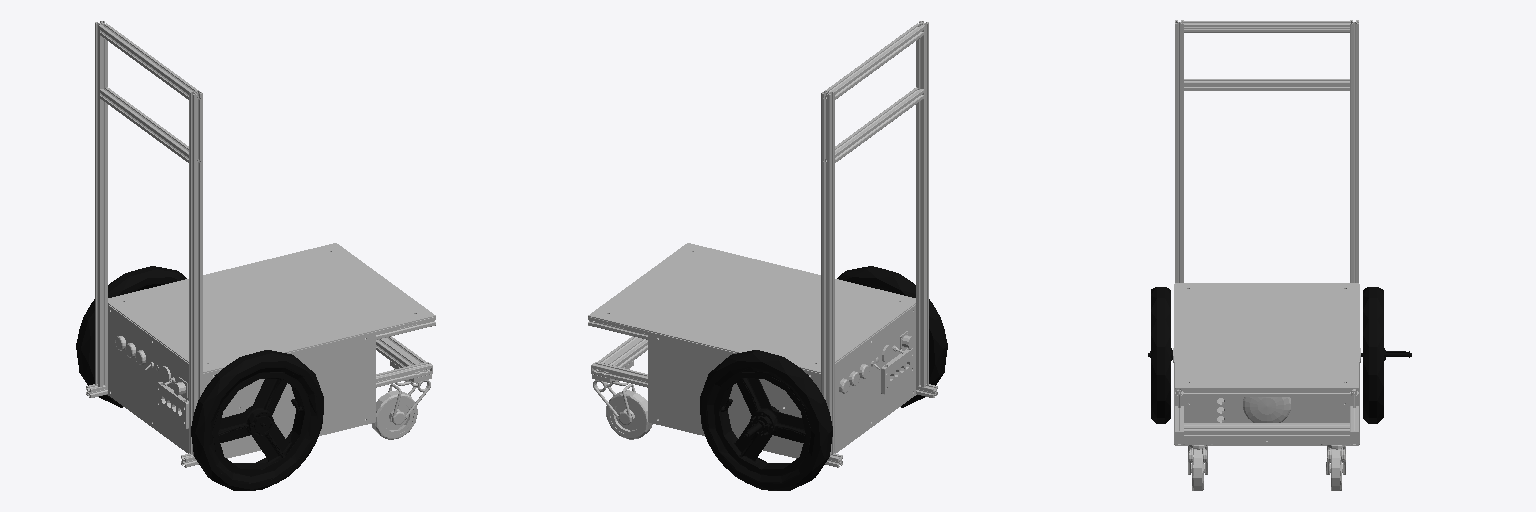
The robot description file, URDF, robot "icart_box":
<?xml version="1.0" encoding="utf-8"?>
<!-- =================================================================================== -->
<!-- |    This document was autogenerated by xacro from icart_box.xacro                | -->
<!-- |    EDITING THIS FILE BY HAND IS NOT RECOMMENDED                                 | -->
<!-- =================================================================================== -->
<!-- Revolute-Revolute Manipulator -->
<robot name="icart_box">
  <material name="black">
    <color rgba="0.0 0.0 0.0 1.0"/>
  </material>
  <material name="blue">
    <color rgba="0.0 0.0 0.8 1.0"/>
  </material>
  <material name="green">
    <color rgba="0.0 0.8 0.0 1.0"/>
  </material>
  <material name="grey">
    <color rgba="0.2 0.2 0.2 1.0"/>
  </material>
  <material name="orange">
    <color rgba="1.0 0.423529411765 0.0392156862745 1.0"/>
  </material>
  <material name="brown">
    <color rgba="0.870588235294 0.811764705882 0.764705882353 1.0"/>
  </material>
  <material name="red">
    <color rgba="0.8 0.0 0.0 1.0"/>
  </material>
  <material name="white">
    <color rgba="1.0 1.0 1.0 1.0"/>
  </material>
  <!-- ros_control plugin -->
  <gazebo>
    <plugin filename="libgazebo_ros_control.so" name="gazebo_ros_control">
      <robotSimType>icart_mini_gazebo/ICartMiniHWSim</robotSimType>
    </plugin>
  </gazebo>
  <!-- Left Wheel -->
  <gazebo reference="left_wheel">
    <mu1>1.0</mu1>
    <mu2>1.0</mu2>
    <kp>1000000.0</kp>
    <kd>100.0</kd>
    <minDepth>0.001</minDepth>
    <maxVel>1.0</maxVel>
    <material>Gazebo/Orange</material>
  </gazebo>
  <!-- Base Link -->
  <gazebo reference="base_link">
    <material>Gazebo/White</material>
  </gazebo>
  <!-- Right Wheel -->
  <gazebo reference="right_wheel">
    <mu1>1.0</mu1>
    <mu2>1.0</mu2>
    <kp>1000000.0</kp>
    <kd>100.0</kd>
    <minDepth>0.001</minDepth>
    <maxVel>1.0</maxVel>
    <material>Gazebo/Orange</material>
  </gazebo>
  <!-- hokuyo -->
  <gazebo reference="hokuyo_link">
    <sensor name="head_hokuyo_sensor" type="ray">
      <pose>0 0 0 0 0 0</pose>
      <visualize>false</visualize>
      <update_rate>40</update_rate>
      <ray>
        <scan>
          <horizontal>
            <samples>720</samples>
            <resolution>1</resolution>
            <min_angle>-1.570796</min_angle>
            <max_angle>1.570796</max_angle>
          </horizontal>
        </scan>
        <range>
          <min>0.10</min>
          <max>30.0</max>
          <resolution>0.01</resolution>
        </range>
        <noise>
          <type>gaussian</type>
          <!-- Noise parameters based on published spec for Hokuyo laser
               achieving "+-30mm" accuracy at range < 10m.  A mean of 0.0m and
               stddev of 0.01m will put 99.7% of samples within 0.03m of the true
               reading. -->
          <mean>0.0</mean>
          <stddev>0.01</stddev>
        </noise>
      </ray>
      <plugin filename="libgazebo_ros_laser.so" name="gazebo_ros_head_hokuyo_controller">
        <topicName>/scan</topicName>
        <frameName>hokuyo_link</frameName>
      </plugin>
    </sensor>
  </gazebo>
  <!-- Base Link -->
  <link name="base_link">
    <visual>
      <origin rpy="0 0 0" xyz="-0.03 0 0.0705"/>
      <geometry>
        <!-- <box size=".40 .42 .134"/> -->
        <mesh filename="package://orne_description/meshes/orne_box_stl/base.stl" scale="1 1 1"/>
      </geometry>
      <material name="silver">
        <color rgba="0.752941176471 0.752941176471 0.752941176471 1.0"/>
      </material>
    </visual>
    <collision>
      <origin rpy="0 0 0" xyz="-0.03 0 0.0705"/>
      <geometry>
        <!-- <box size=".40 .42 .134"/> -->
        <mesh filename="package://orne_description/meshes/orne_box_stl/base.stl" scale="1 1 1"/>
      </geometry>
    </collision>
    <inertial>
      <mass value="20"/>
      <origin rpy="0 0 0" xyz="0 0 0"/>
      <inertia ixx="1" ixy="0" ixz="0" iyy="1" iyz="0" izz="1"/>
    </inertial>
  </link>
  <!-- left wheel -->
  <link name="visual_left_wheel">
    <visual>
      <origin rpy="0 1.5707 1.5707" xyz="0 0 0"/>
      <geometry>
        <!-- <cylinder  length="0.03" radius="0.151"/> -->
        <mesh filename="package://orne_description/meshes/wheels/tire.stl" scale="1 1 1"/>
      </geometry>
      <material name="dark">
        <color rgba="0.1 0.1 0.1 1.5"/>
      </material>
    </visual>
  </link>
  <joint name="visual_left_wheel_hinge" type="fixed">
    <!-- <origin xyz="0.045 0.223 0.1518" rpy="0 0 0"/> -->
    <origin rpy="0 0 0" xyz="0 0.23 0.1518"/>
    <child link="visual_left_wheel">visual_left_wheel</child>
    <parent link="base_link">base_link</parent>
    <axis xyz="0 1 0"/>
  </joint>
  <link name="left_wheel">
    <collision name="collision">
      <origin rpy="0 1.5707 1.5707" xyz="0 0 0"/>
      <geometry>
        <!-- <cylinder length="0.03" radius="0.151" /> -->
        <mesh filename="package://orne_description/meshes/wheels/tire.stl" scale="1 1 1"/>
      </geometry>
    </collision>
    <inertial>
      <mass value="1"/>
      <origin xyz="0 0 0"/>
      <inertia ixx="0.1" ixy="0" ixz="0" iyy="0.1" iyz="0" izz="0.1"/>
    </inertial>
  </link>
  <joint name="left_wheel_hinge" type="revolute">
    <!-- <origin xyz="0.045 0.223 0.1518" rpy="0 0 0"/> -->
    <origin rpy="0 0 0" xyz="0 0.23 0.1518"/>
    <child link="left_wheel">left_wheel</child>
    <parent link="base_link">base_link</parent>
    <axis xyz="0 1 0"/>
    <limit effort="100" lower="-5000" upper="5000" velocity="100.0"/>
  </joint>
  <!-- right wheel -->
  <link name="visual_right_wheel">
    <visual>
      <origin rpy="0 1.5707 1.5707" xyz="0 0 0"/>
      <geometry>
        <!-- <cylinder  length="0.03" radius="0.151"/> -->
        <mesh filename="package://orne_description/meshes/wheels/tire.stl" scale="1 1 1"/>
      </geometry>
      <material name="dark"/>
    </visual>
  </link>
  <joint name="visual_right_wheel_hinge" type="fixed">
    <!-- <origin xyz="-0.045 -0.223 0.1518" rpy="0 0 0"/> -->
    <origin rpy="0 0 0" xyz="0 -0.23 0.1518"/>
    <child link="visual_right_wheel">visual_right_wheel</child>
    <parent link="base_link">base_link</parent>
    <axis xyz="0 1 0"/>
  </joint>
  <link name="right_wheel">
    <collision name="collision">
      <origin rpy="0 1.5707 1.5707" xyz="0 0 0"/>
      <geometry>
        <!-- <cylinder length="0.03" radius="0.151" /> -->
        <mesh filename="package://orne_description/meshes/wheels/tire.stl" scale="1 1 1"/>
      </geometry>
    </collision>
    <inertial>
      <mass value="1"/>
      <origin xyz="0 0 0"/>
      <inertia ixx="0.1" ixy="0" ixz="0" iyy="0.1" iyz="0" izz="0.1"/>
    </inertial>
  </link>
  <joint name="right_wheel_hinge" type="revolute">
    <!-- <origin xyz="0.045 0.223 0.1518" rpy="0 0 0"/> -->
    <origin rpy="0 0 0" xyz="0 -0.23 0.1518"/>
    <child link="right_wheel">right_wheel</child>
    <parent link="base_link">base_link</parent>
    <axis xyz="0 1 0"/>
    <limit effort="100" lower="-5000" upper="5000" velocity="100.0"/>
  </joint>
  <transmission name="tran1">
    <type>transmission_interface/SimpleTransmission</type>
    <joint name="left_wheel_hinge">
      <hardwareInterface>VelocityJointInterface</hardwareInterface>
    </joint>
    <actuator name="left_motor">
      <hardwareInterface>VelocityJointInterface</hardwareInterface>
      <mechanicalReduction>1</mechanicalReduction>
    </actuator>
  </transmission>
  <transmission name="tran2">
    <type>transmission_interface/SimpleTransmission</type>
    <joint name="right_wheel_hinge">
      <hardwareInterface>VelocityJointInterface</hardwareInterface>
    </joint>
    <actuator name="right_motor">
      <hardwareInterface>VelocityJointInterface</hardwareInterface>
      <mechanicalReduction>1</mechanicalReduction>
    </actuator>
  </transmission>
</robot>

--- What the picture shows (computed from the rendered views, not written in the file) ---
3 views of the same robot in one strip: view 1: azimuth 30°, elevation 25°; view 2: azimuth 150°, elevation 25°; view 3: azimuth 270°, elevation 25° (orthographic).
Robot: icart_box — 5 links, 4 joints (2 revolute, 2 fixed); root link base_link; default pose: every joint at zero.
Links seen in each view (by area): view 1: base_link, visual_right_wheel, visual_left_wheel; view 2: base_link, visual_left_wheel, visual_right_wheel; view 3: base_link, visual_left_wheel, visual_right_wheel.
Boxes of the visible links, x1=… form: base_link: x1=86, y1=21, x2=435, y2=467; visual_right_wheel: x1=191, y1=350, x2=323, y2=490; visual_left_wheel: x1=76, y1=266, x2=186, y2=407; base_link: x1=588, y1=21, x2=937, y2=467; visual_left_wheel: x1=700, y1=350, x2=832, y2=490; visual_right_wheel: x1=837, y1=266, x2=947, y2=407; base_link: x1=1173, y1=20, x2=1360, y2=490; visual_left_wheel: x1=1361, y1=287, x2=1411, y2=423; visual_right_wheel: x1=1148, y1=287, x2=1172, y2=423.
Bounding box of the posed robot: 0.5875 × 0.5735 × 0.8919 m (x, y, z).
Meshes: 2 distinct files referenced, 3 mesh visuals loaded (2 binary STL).
